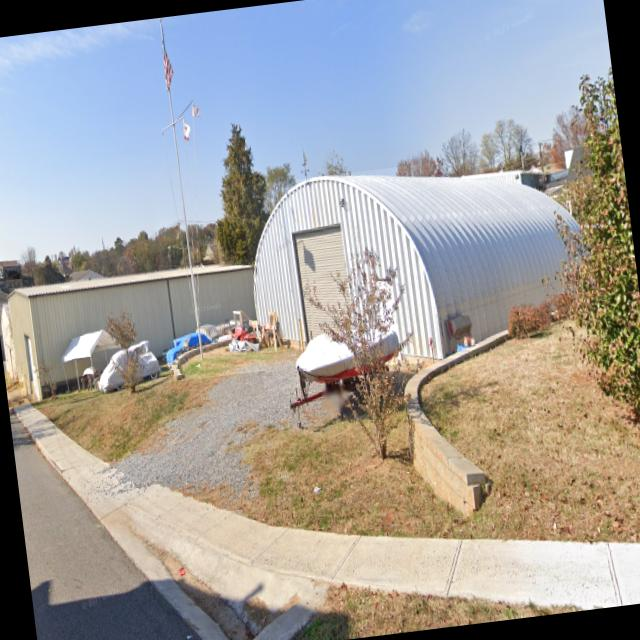House: (240, 144, 604, 391), (8, 258, 266, 400), (0, 300, 19, 382), (0, 259, 21, 281), (200, 244, 220, 265)
